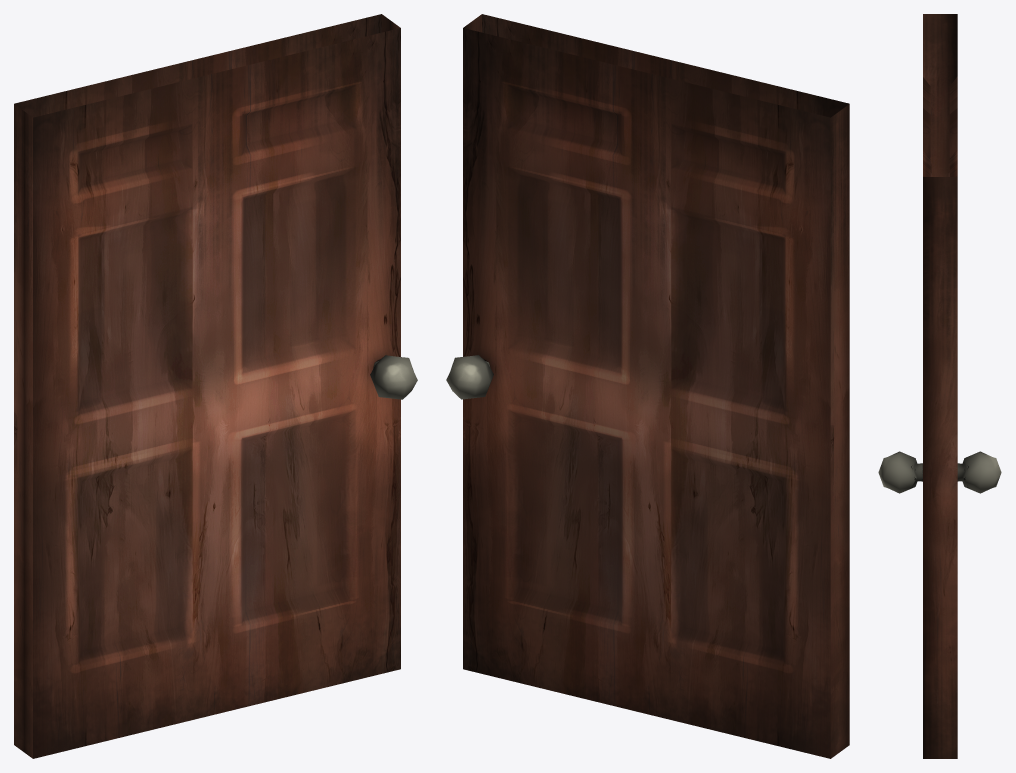
Rendered from door.fbx.
3 views of the same model, side by side, from view 1: azimuth 30°, elevation 25°; view 2: azimuth 150°, elevation 25°; view 3: azimuth 270°, elevation 25° (orthographic). The views are drawn at different scales.
Parts seen in each view (by area): view 1: normal_door; view 2: normal_door; view 3: normal_door.
Boxes of the visible parts, left/top/right/bottom form: normal_door: left=14, top=14, right=417, bottom=758; normal_door: left=446, top=14, right=849, bottom=758; normal_door: left=878, top=14, right=1001, bottom=758.
Size of the model in its own units: 3 by 5 by 0.9586.
Materials: 1 (1 with a texture image).
